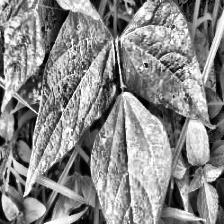ALS: (25, 14, 118, 194), (128, 0, 215, 130), (87, 100, 170, 224), (0, 0, 63, 97)
